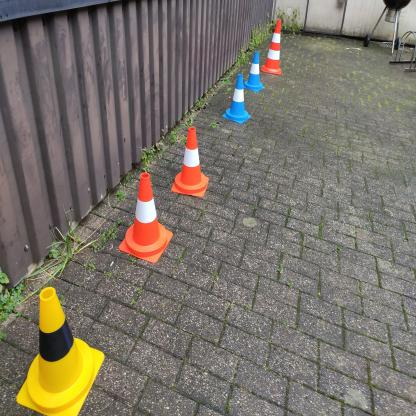Cones_big: (262, 10, 286, 78)
Cones_small_blue: (221, 70, 256, 131), (244, 48, 268, 96)
Cones_small_orange: (113, 165, 177, 266), (168, 120, 212, 206)
Cones_small_yellow: (8, 274, 113, 416)
